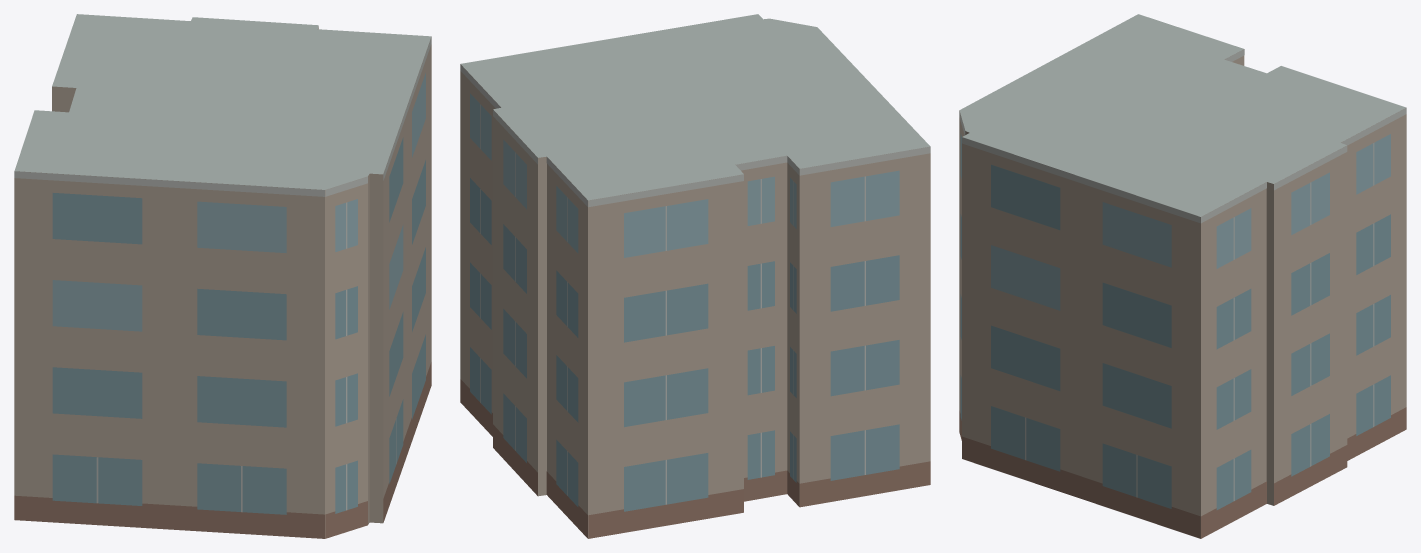
File: survey-upis-32817411.glb
3 renders of one model, left to right at view 1: azimuth 30°, elevation 25°; view 2: azimuth 150°, elevation 25°; view 3: azimuth 270°, elevation 25°, orthographic. The views are drawn at different scales.
Parts seen in each view (by area): view 1: survey-upis-32817411.tmp; view 2: survey-upis-32817411.tmp; view 3: survey-upis-32817411.tmp.
Boxes of the visible parts, bbox=[...] form: survey-upis-32817411.tmp: bbox=[14, 14, 431, 538]; survey-upis-32817411.tmp: bbox=[460, 14, 930, 538]; survey-upis-32817411.tmp: bbox=[959, 14, 1406, 538].
Bounding box in the file's own units: 16.51 × 12.2 × 15.37.
